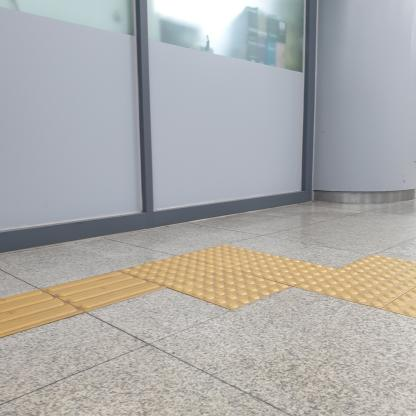go: (40, 270, 167, 312), (0, 289, 86, 338)
stop: (167, 268, 293, 310), (294, 268, 416, 309), (118, 256, 228, 287), (229, 255, 339, 286), (177, 244, 273, 269), (338, 254, 416, 284)
